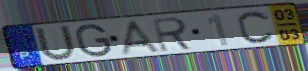1: (206, 13, 230, 47)
A: (118, 19, 163, 56)
C: (236, 10, 277, 45)
G: (73, 23, 114, 59)
R: (150, 15, 196, 54)
U: (33, 24, 79, 63)
